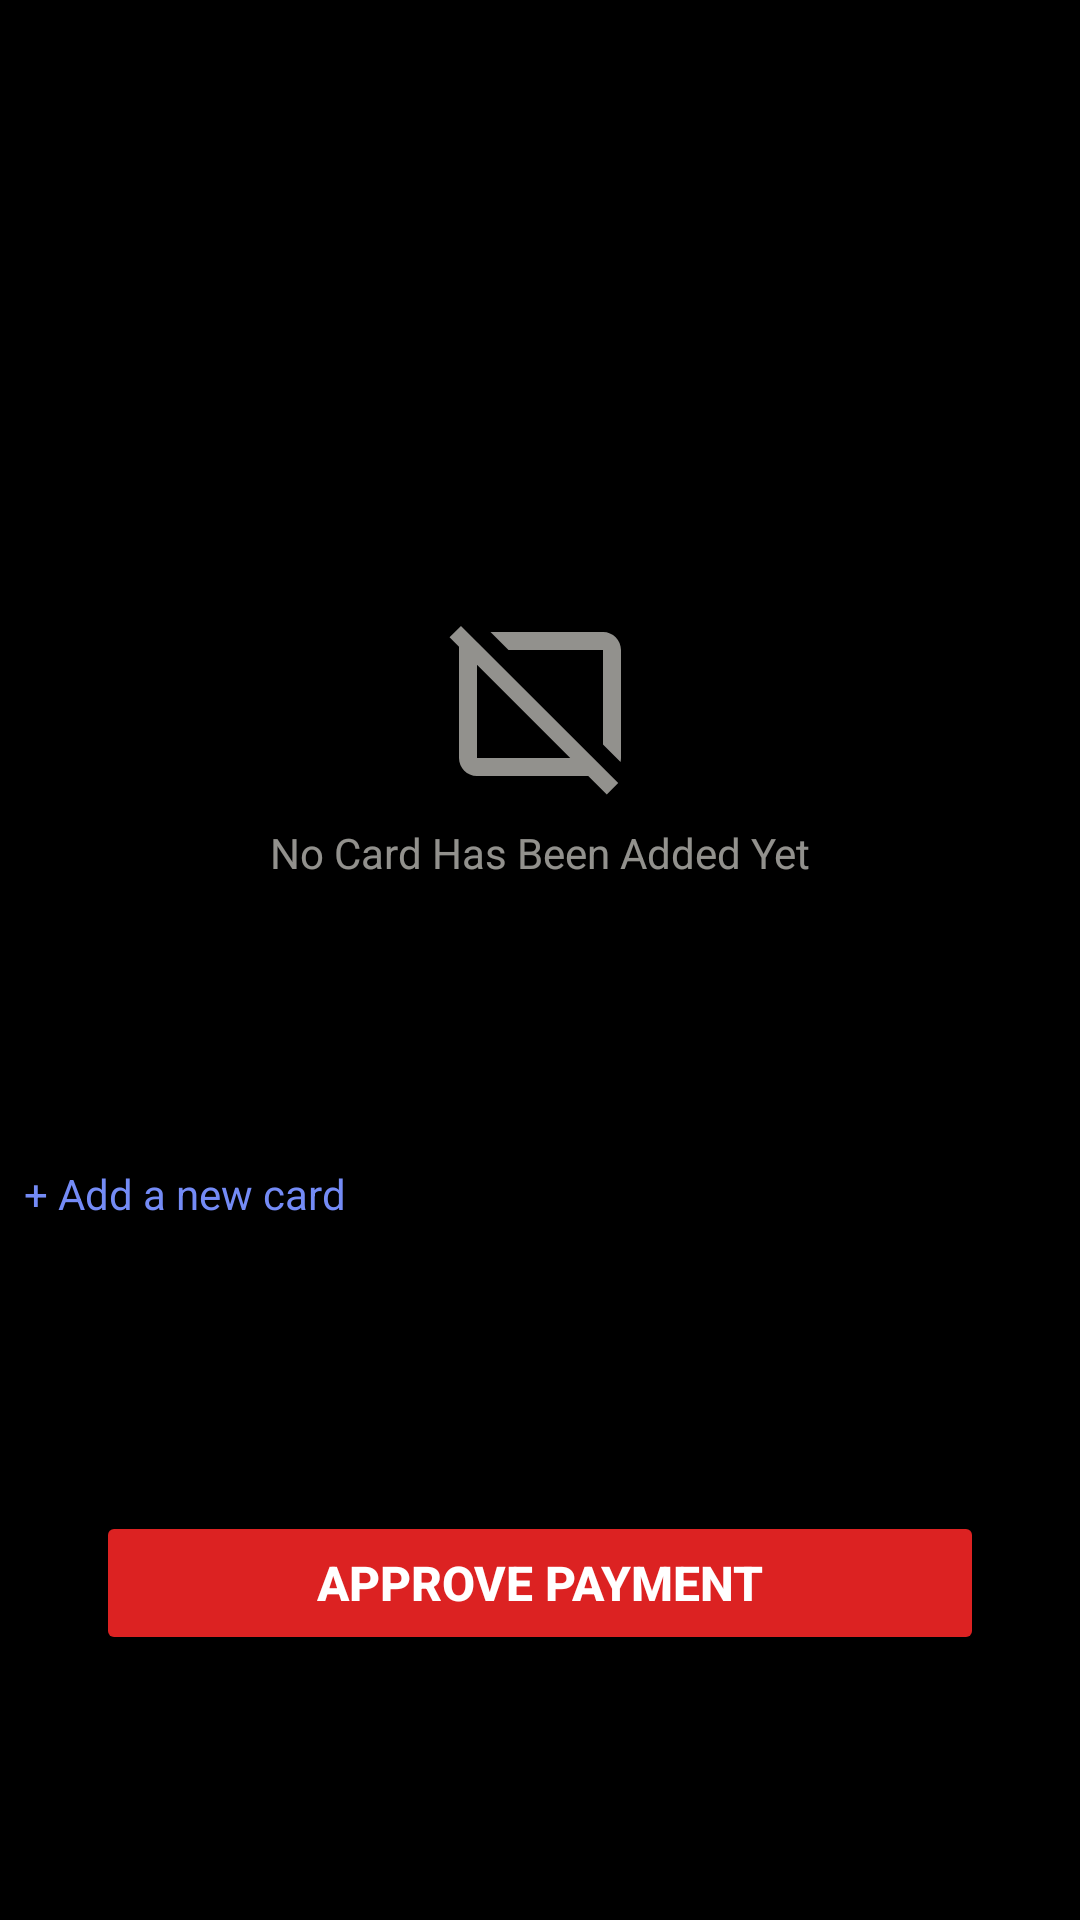

Icon click points for this 1080 x 1920 phone screenshot, format (x,y):
empty: (535,710)
